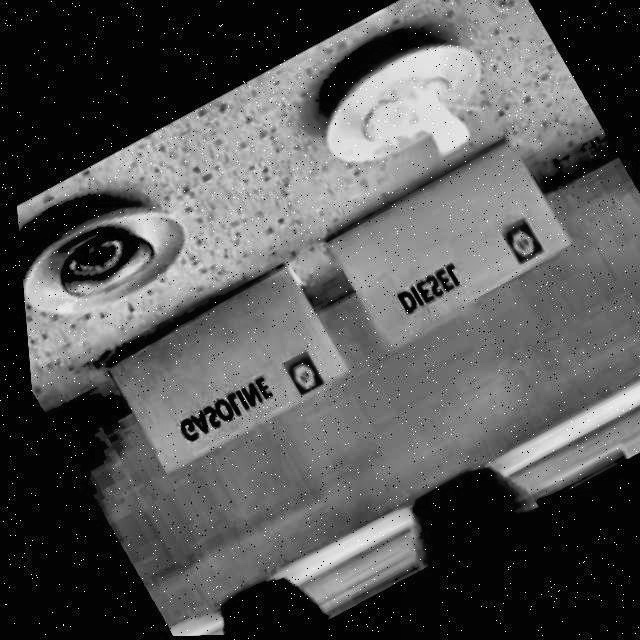Fire: (355, 69, 478, 192)
